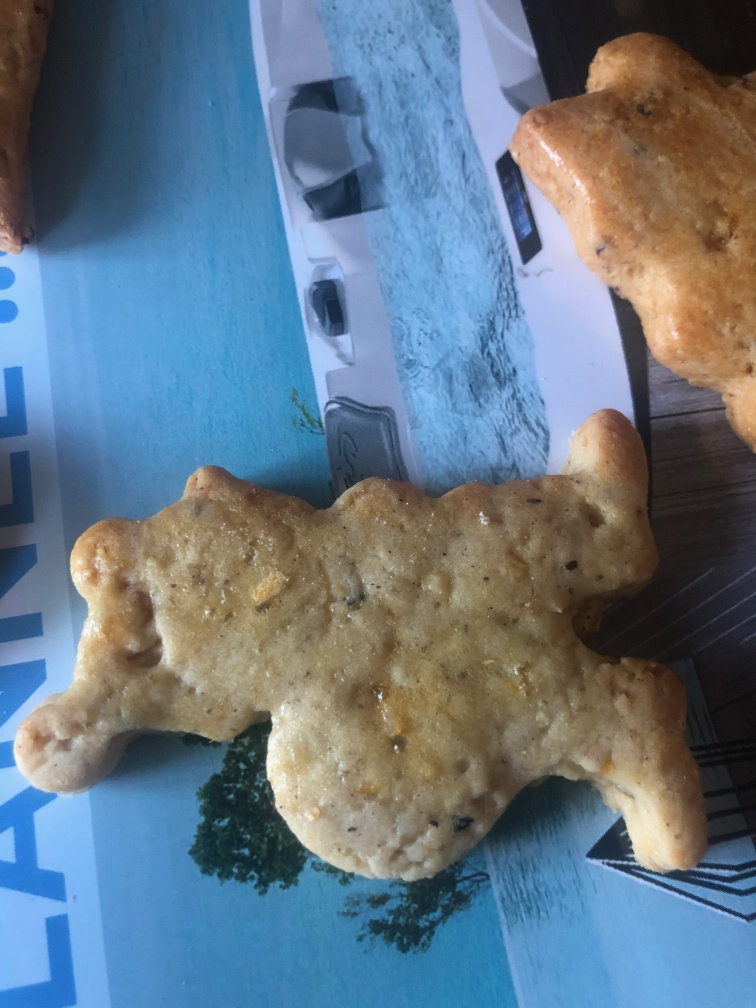santa claus: (13, 401, 710, 889)
